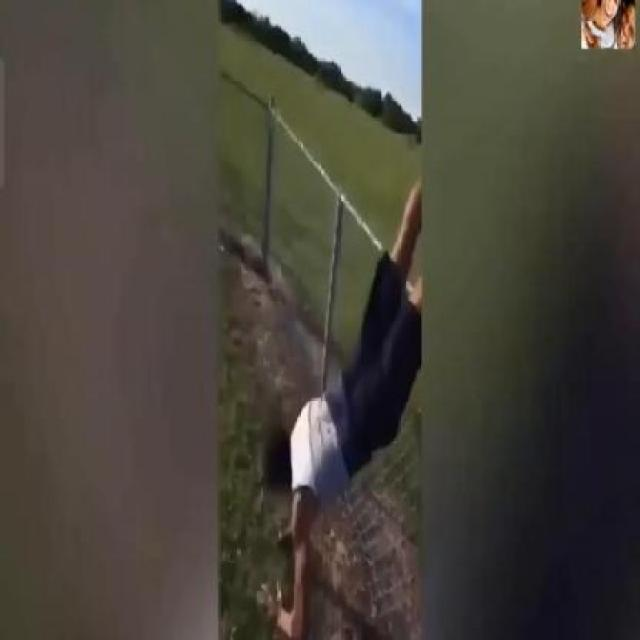fall: (266, 153, 423, 639)
